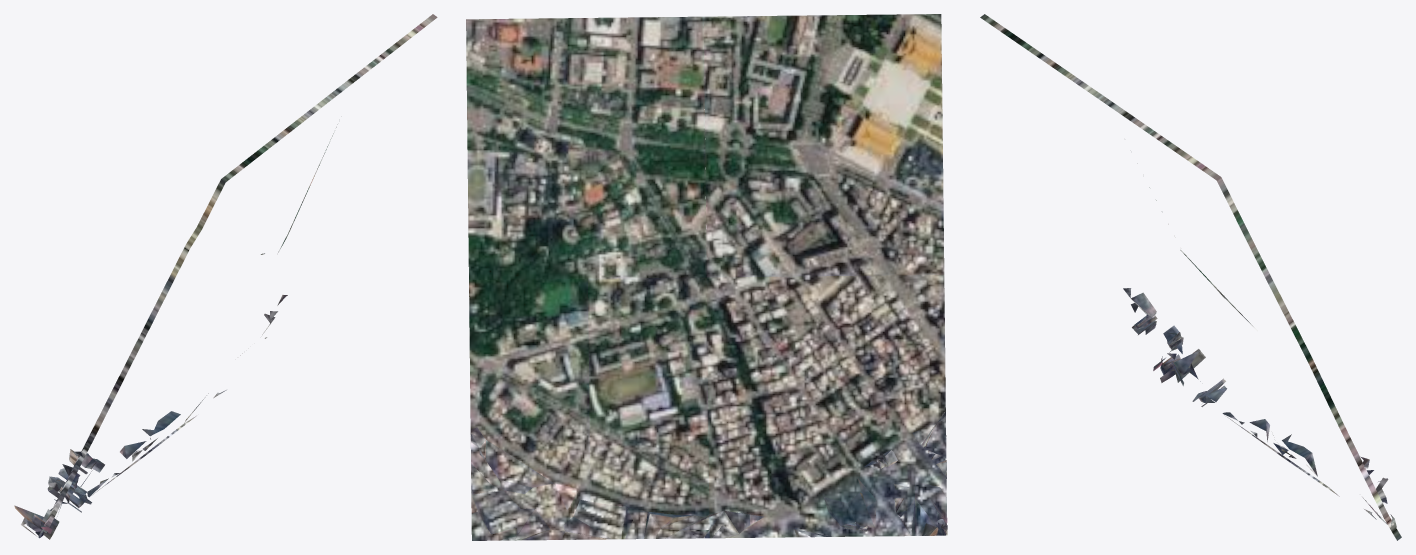
3 renders of one model, left to right at view 1: azimuth 30°, elevation 25°; view 2: azimuth 150°, elevation 25°; view 3: azimuth 270°, elevation 25°, orthographic. The views are drawn at different scales.
Size of the model in its own units: 1254 by 1112 by 1034.
1 material, 1 textured.
